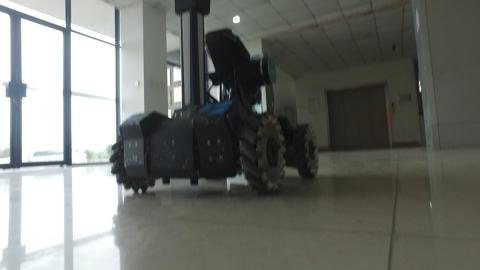chariot: (96, 1, 335, 200)
